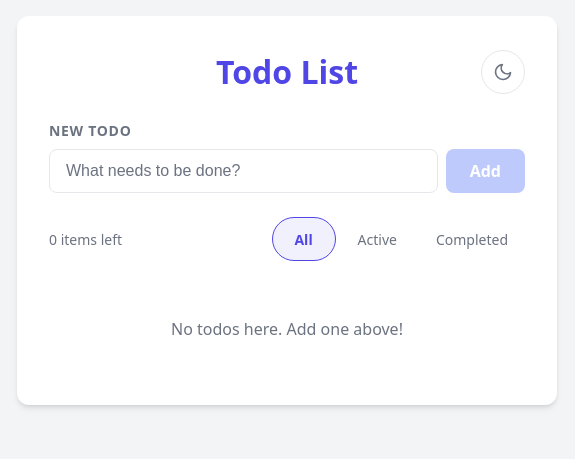
Test: App › filters todos by active
Type "Active task" into the field labelled "New todo" at x=243, y=171, box [49,149,438,193]
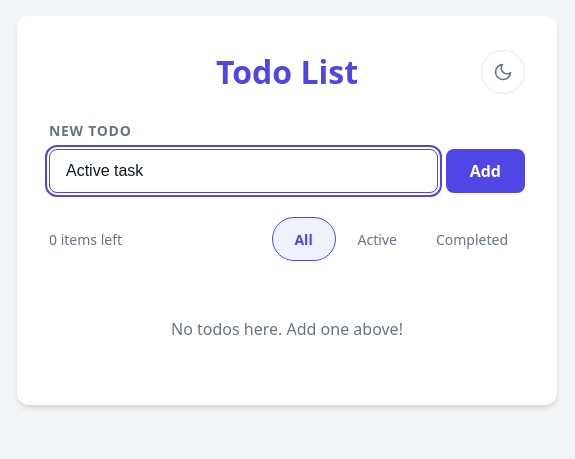
Click the button "Add" at x=485, y=171, box [446,149,525,193]
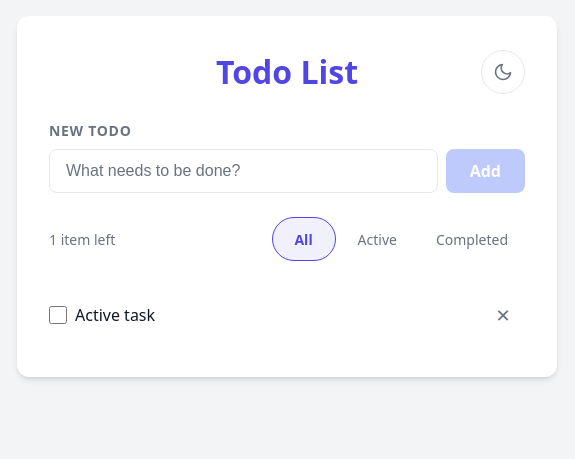
Type "Done task" into the field labelled "New todo" at x=243, y=171, box [49,149,438,193]
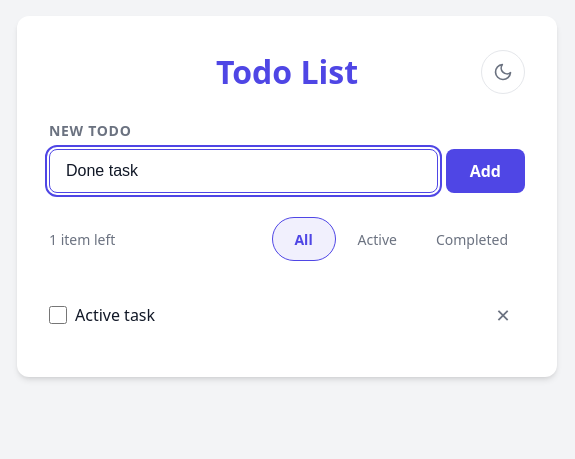
Click the button "Add" at x=485, y=171, box [446,149,525,193]
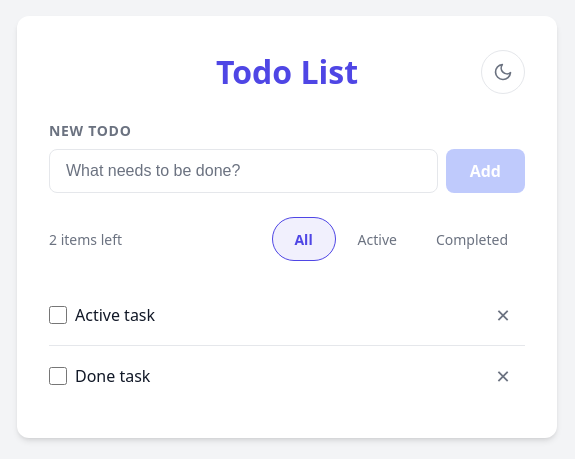
Click the checkbox named "mark \"done task\"" at x=58, y=376, box [49,367,67,385]
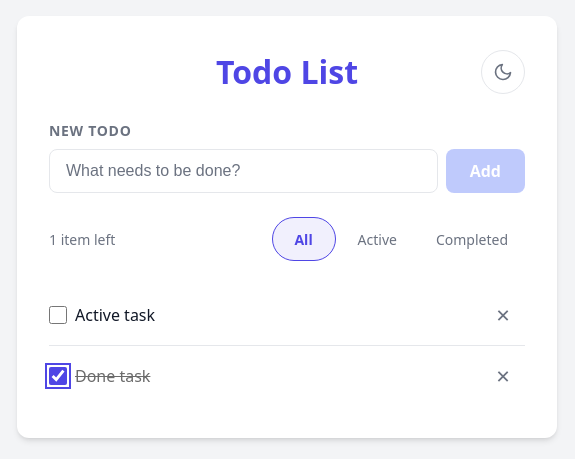
Click the button "Active" at x=377, y=239, box [341,217,414,261]
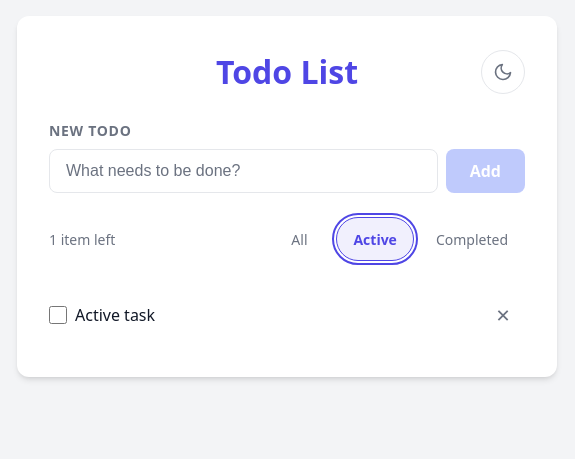
Expected: the text "Active task" is shown, [75,303,155,327]
Expected: the text "Done task" is gone
